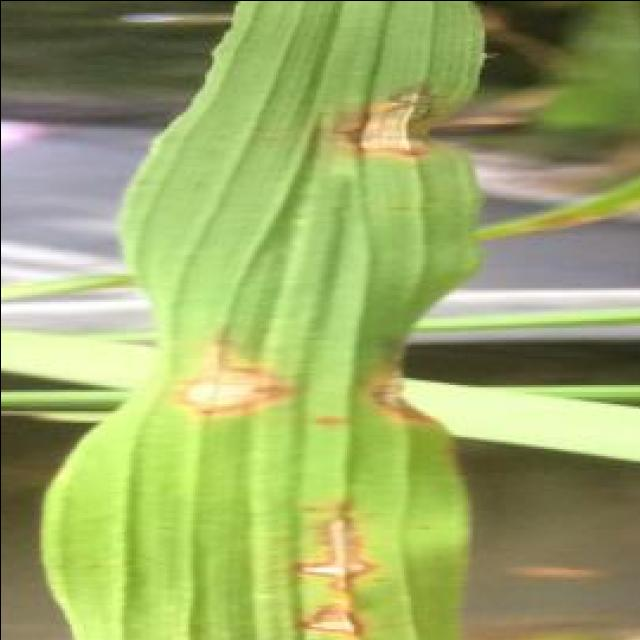Leaf_Blast: (294, 52, 496, 190), (147, 311, 310, 443), (272, 474, 398, 640), (351, 325, 455, 455)
